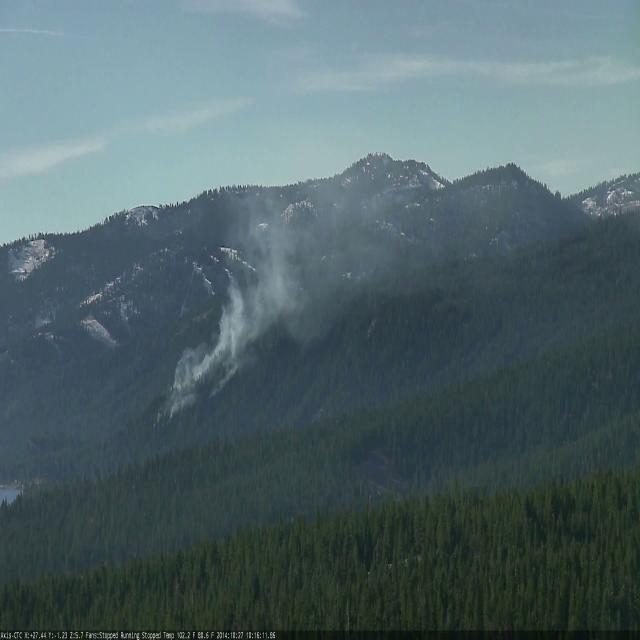smoke: (157, 125, 554, 433)
